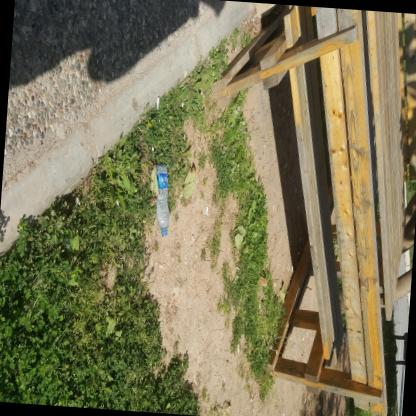Paper: (75, 197, 80, 206), (156, 96, 159, 109), (115, 199, 119, 207), (205, 206, 208, 216), (151, 147, 154, 155), (182, 231, 184, 241), (236, 344, 238, 353), (241, 22, 244, 28), (200, 91, 203, 97), (235, 266, 238, 271), (249, 397, 252, 402), (296, 251, 299, 256), (289, 175, 291, 182), (282, 106, 284, 113), (303, 398, 305, 404), (230, 49, 233, 53), (301, 336, 303, 341), (295, 206, 298, 209), (295, 187, 296, 194), (291, 266, 292, 273), (306, 331, 307, 337), (251, 19, 253, 22), (318, 405, 319, 409)
Plastic: (154, 165, 169, 237)
Waste: (258, 304, 260, 309)
